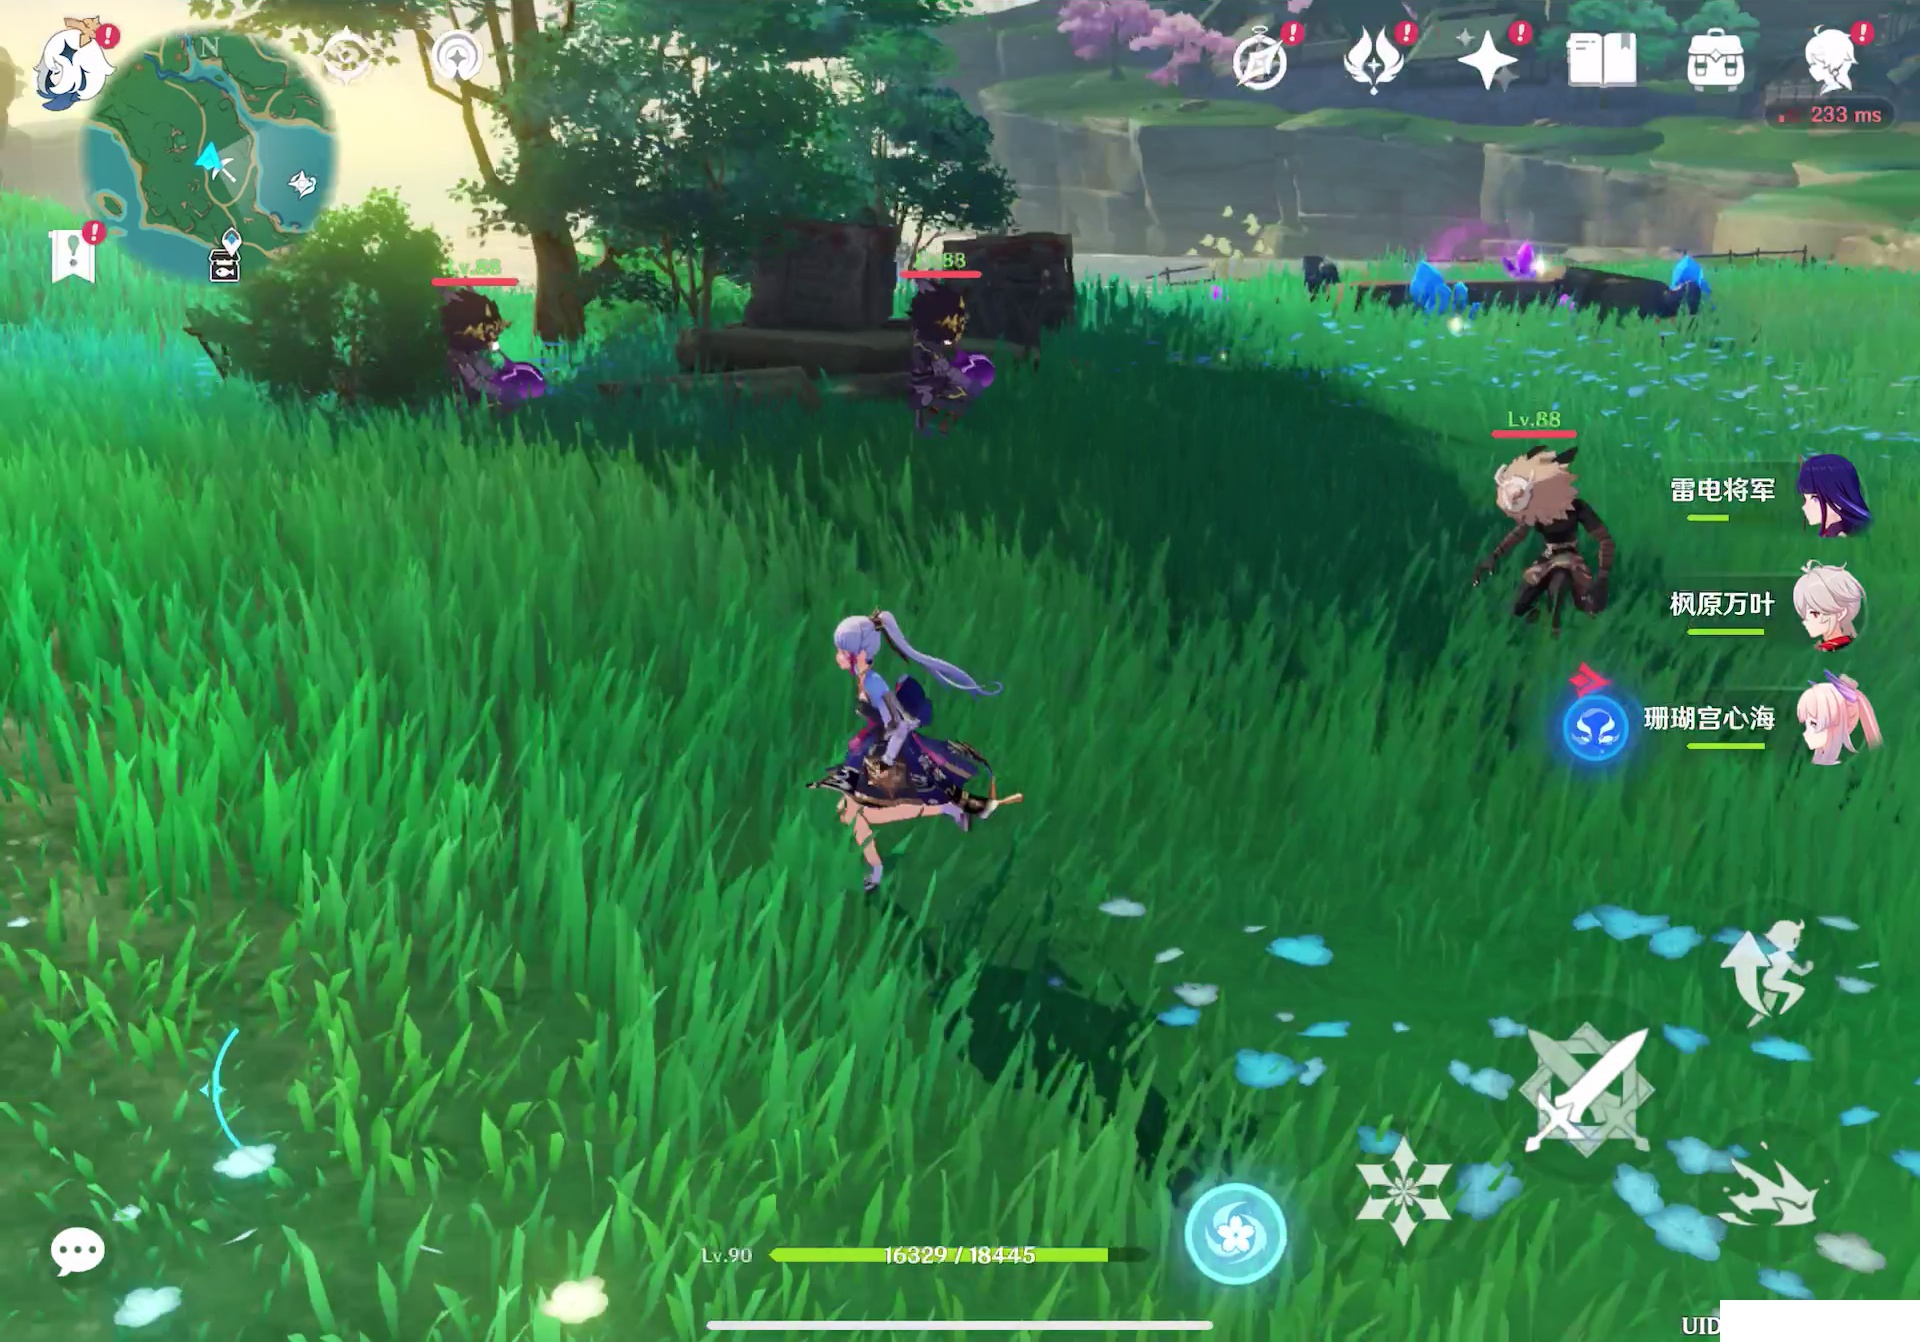丘丘人: (1475, 448, 1617, 618), (891, 290, 1021, 436), (445, 293, 551, 435)
神里绫龟: (814, 597, 1005, 846)
